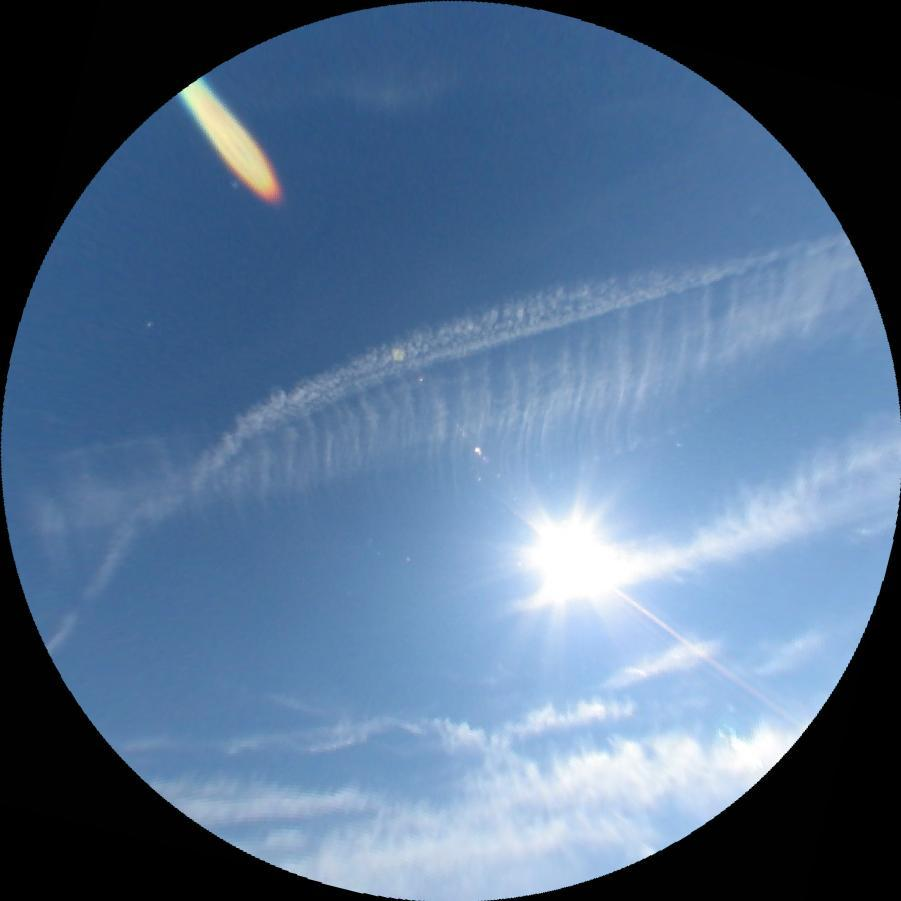contrail veryold: (0, 243, 899, 622), (486, 422, 901, 643)
parasite: (601, 580, 808, 731)
sun: (534, 517, 616, 602)
